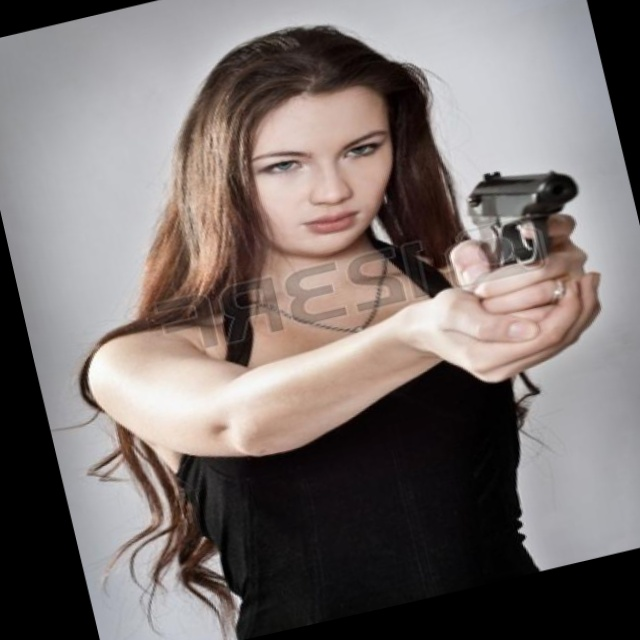gun: (407, 141, 627, 375)
